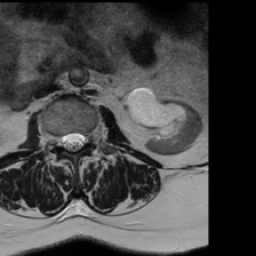CCS_normal: (69, 124, 77, 159)
LFS_normal: (85, 122, 94, 153)
LLS_normal: (77, 127, 85, 153)
RFS_normal: (53, 127, 61, 152)
RLS_normal: (61, 127, 69, 152)
